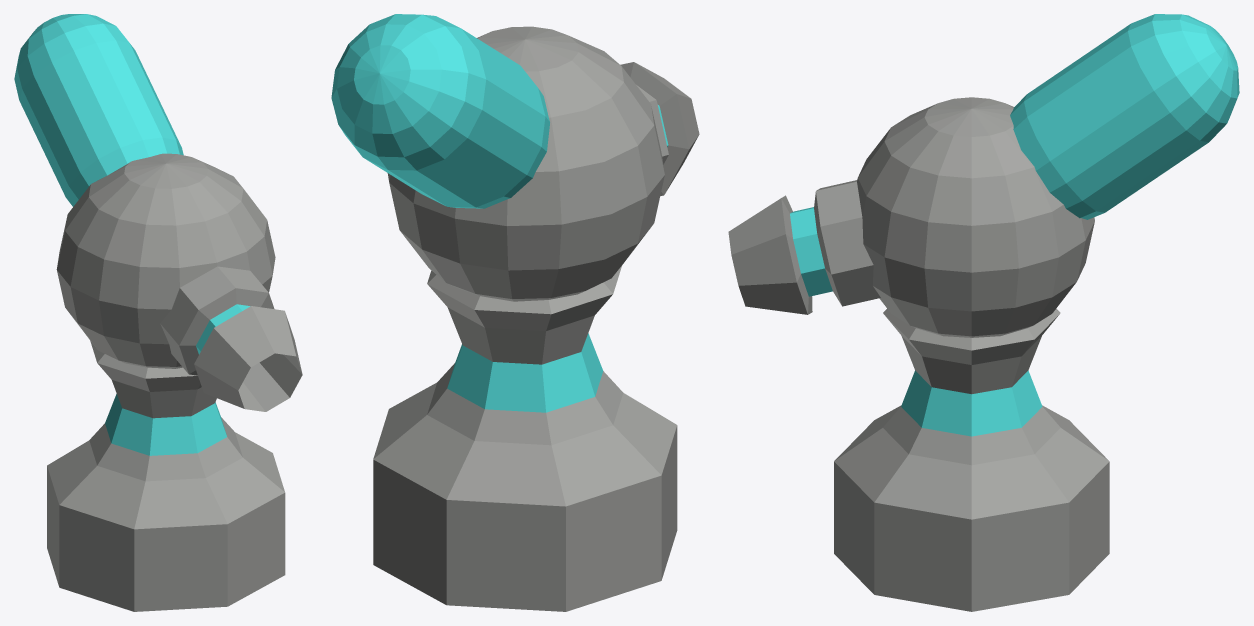
File: Gel_Explosive_Ice.fbx
3 renders of one model, left to right at view 1: azimuth 30°, elevation 25°; view 2: azimuth 150°, elevation 25°; view 3: azimuth 270°, elevation 25°, orthographic. The views are drawn at different scales.
Visible parts, largest first — view 1: Circle; view 2: Circle; view 3: Circle.
Part boxes in pixels (<box>): Circle: <box>14,14,302,611</box>; Circle: <box>331,14,699,611</box>; Circle: <box>728,14,1239,611</box>.
Bounding box in the file's own units: 310 × 662 × 575.
Materials: 1 (1 with a texture image).
